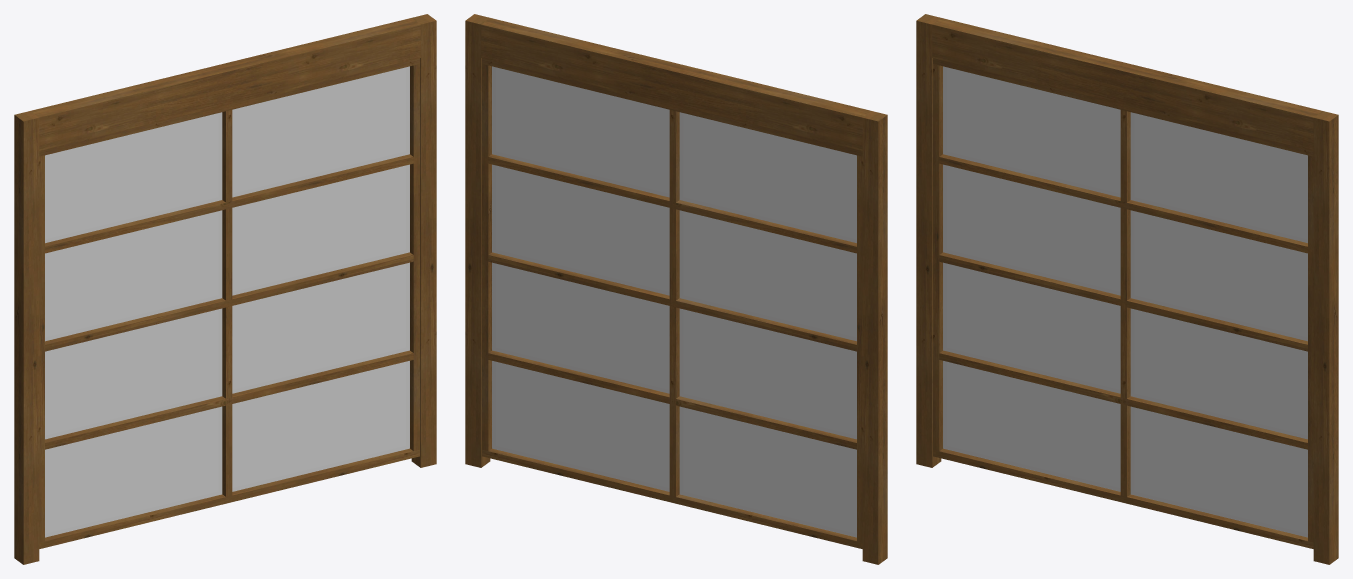
Rendered from es-polycaB_h2000_naturalpine.fbx.
3 views of the same model, side by side, from view 1: azimuth 30°, elevation 25°; view 2: azimuth 150°, elevation 25°; view 3: azimuth 330°, elevation 25° (orthographic).
Parts seen in each view (by area): view 1: es-polycaB_h2000_naturalpine; view 2: es-polycaB_h2000_naturalpine; view 3: es-polycaB_h2000_naturalpine.
Part boxes in pixels (<box>): es-polycaB_h2000_naturalpine: <box>14,14,436,564</box>; es-polycaB_h2000_naturalpine: <box>465,14,887,564</box>; es-polycaB_h2000_naturalpine: <box>916,14,1338,564</box>.
Size of the model in its own units: 195 by 200 by 7.5.
2 materials, 1 textured.
